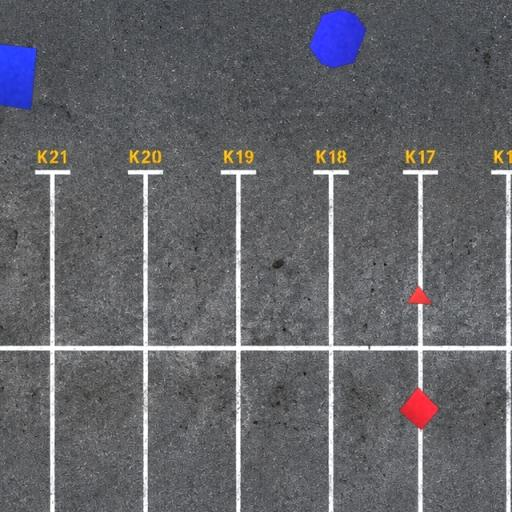BLUE_SQUARE: (0, 41, 38, 110)
RED_SQUARE: (398, 386, 440, 431)
